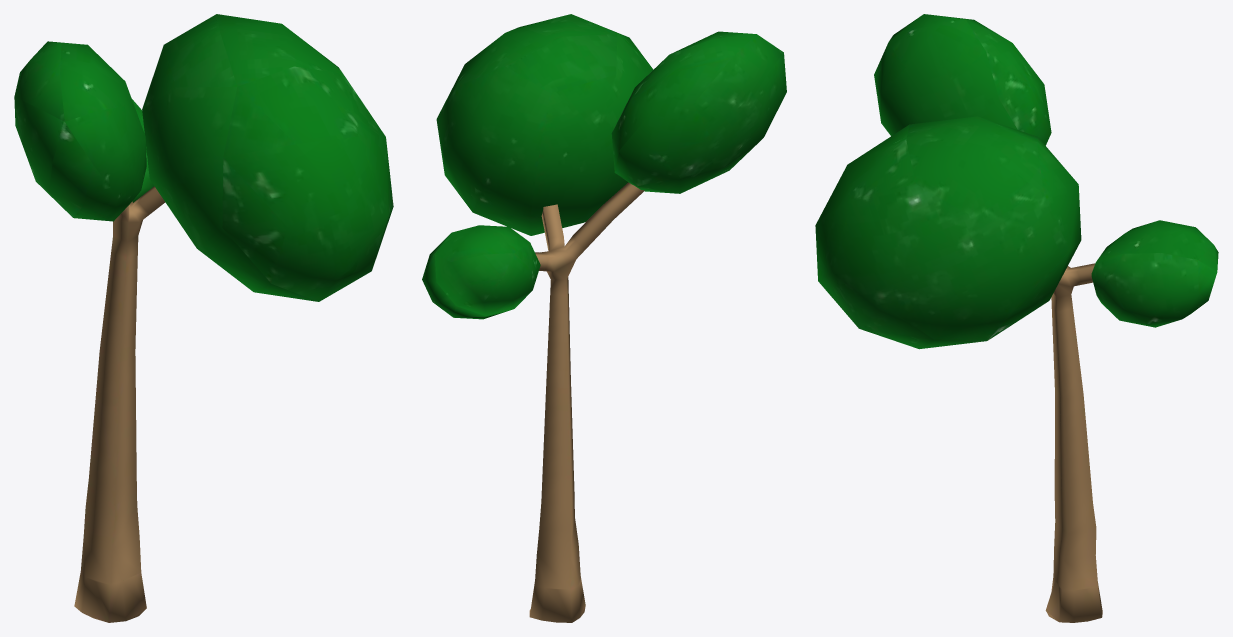
Rendered from tree.glb.
The picture shows the model from 3 angles, left to right: view 1: azimuth 30°, elevation 25°; view 2: azimuth 150°, elevation 25°; view 3: azimuth 270°, elevation 25°; orthographic projection. The views are drawn at different scales.
Visible parts, largest first — view 1: tree_joined.002; view 2: tree_joined.002; view 3: tree_joined.002.
Part boxes in pixels (x1,y1,x2,y2): tree_joined.002: [14, 14, 393, 622]; tree_joined.002: [422, 14, 786, 622]; tree_joined.002: [815, 14, 1218, 622].
Size of the model in its own units: 1.02 by 1.78 by 1.19.
1 material, 1 textured.
